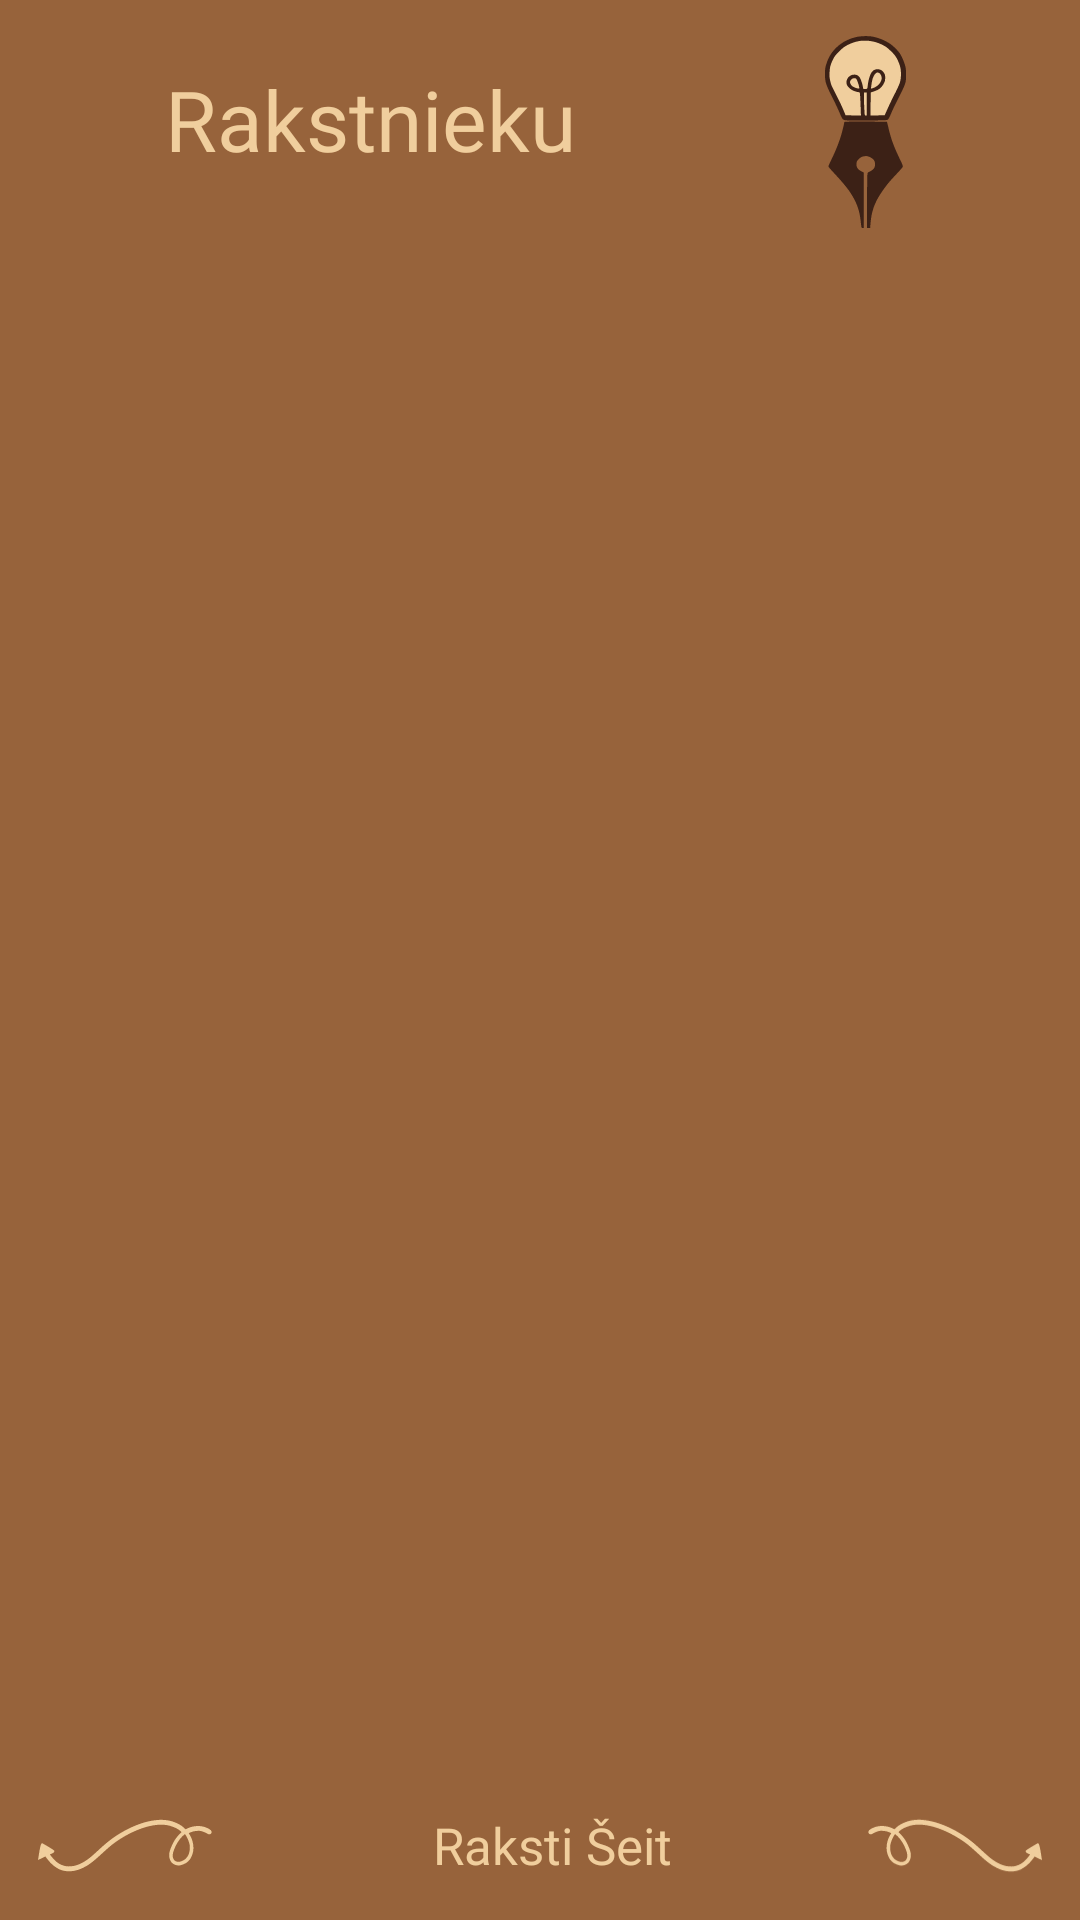

Icon click points for this 1080px x 1920px phone screenshot, format (x,y):
lamp: (865,132)
